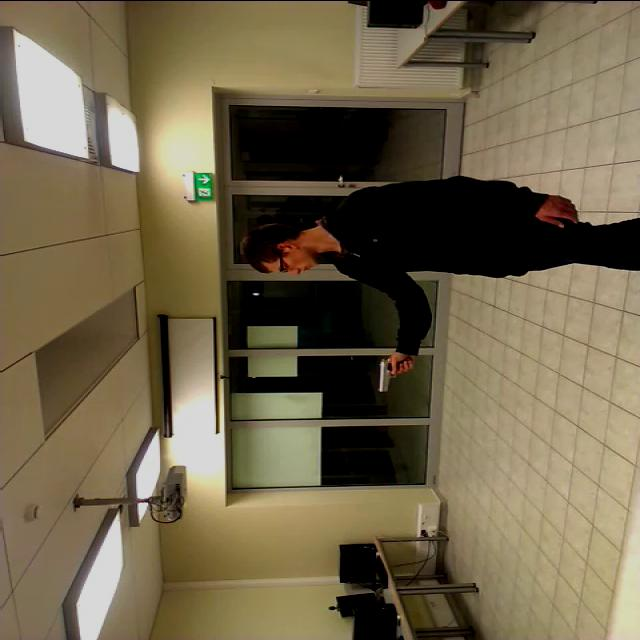handgun: (375, 352, 424, 394)
